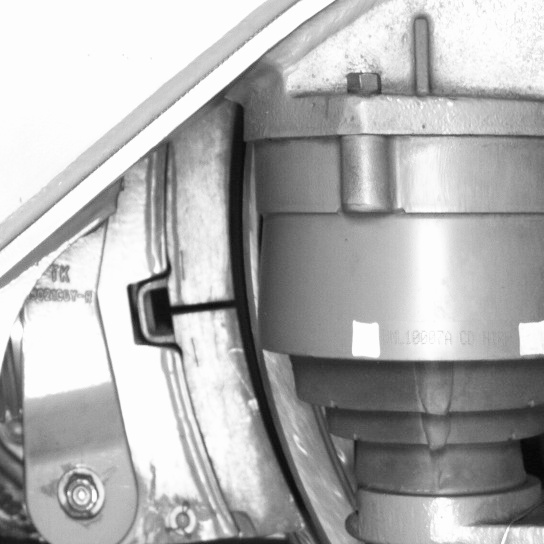KnifeSwitch: (163, 133, 331, 543)
